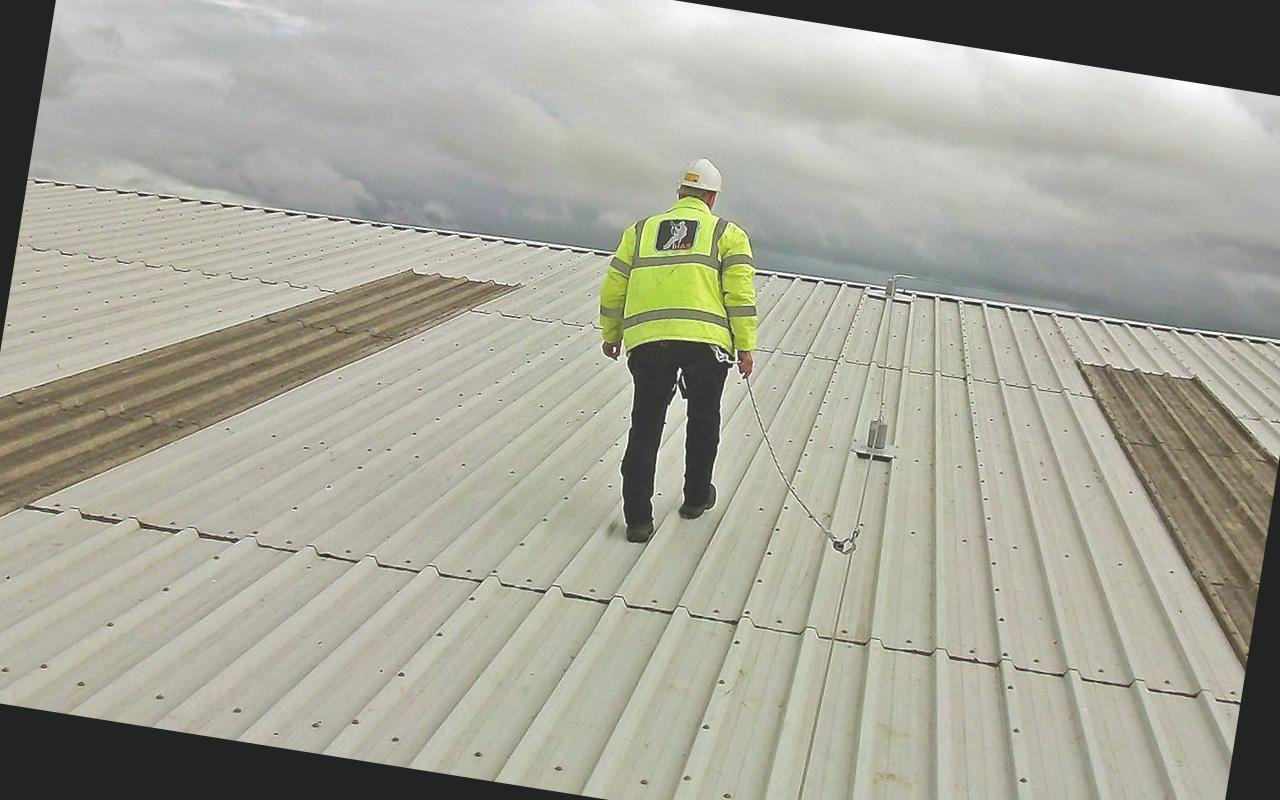helmet: (668, 149, 733, 201)
person: (559, 136, 794, 563)
